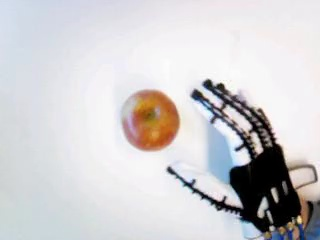apple: (121, 87, 179, 153)
hand: (166, 78, 301, 235)
